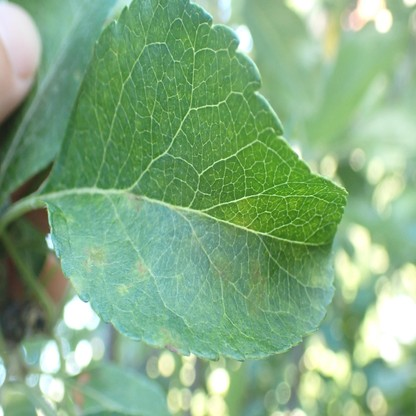scab: (246, 259, 267, 318), (157, 312, 183, 354), (213, 256, 234, 291), (82, 243, 106, 269), (129, 191, 145, 210), (134, 257, 147, 280), (310, 272, 329, 285), (71, 275, 84, 290), (115, 281, 128, 295)
